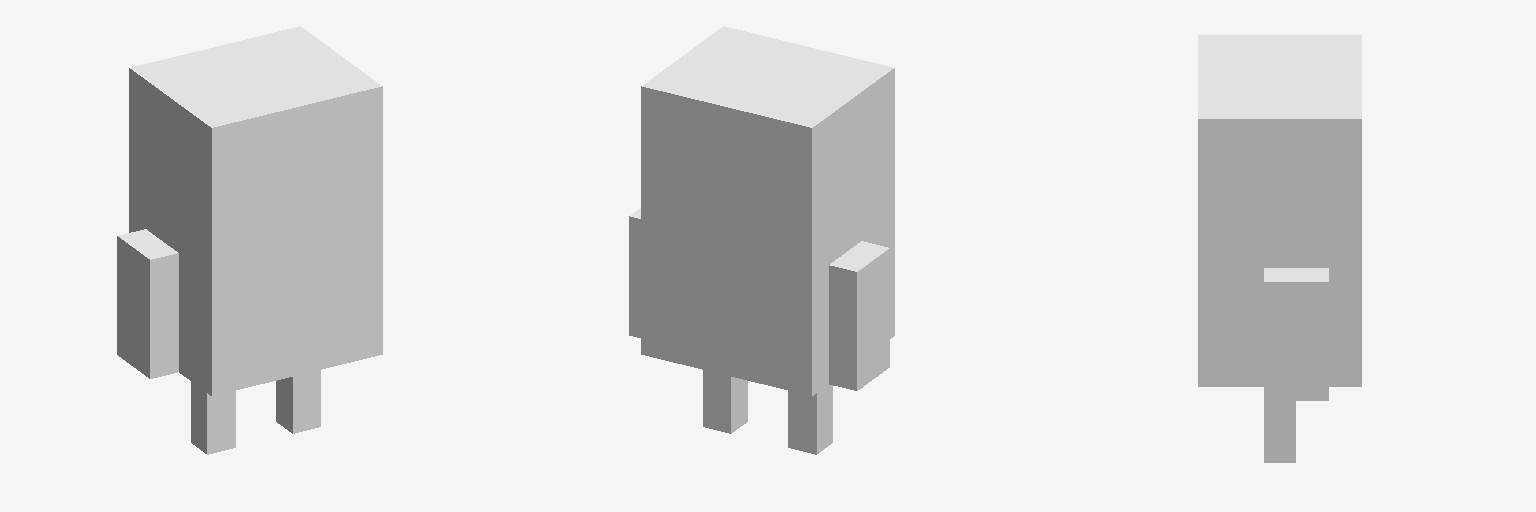
File: CHR_Man1.obj
The picture shows the model from 3 angles: view 1: azimuth 30°, elevation 25°; view 2: azimuth 150°, elevation 25°; view 3: azimuth 270°, elevation 25°; orthographic projection.
Parts seen in each view (by area): view 1: object 1; view 2: object 1; view 3: object 1.
Part boxes in pixels (x1,y1,x2,y2): object 1: (117, 26, 382, 454); object 1: (629, 26, 894, 454); object 1: (1198, 35, 1361, 462).
Bounding box in the file's own units: 0.8 × 1.2 × 0.5.